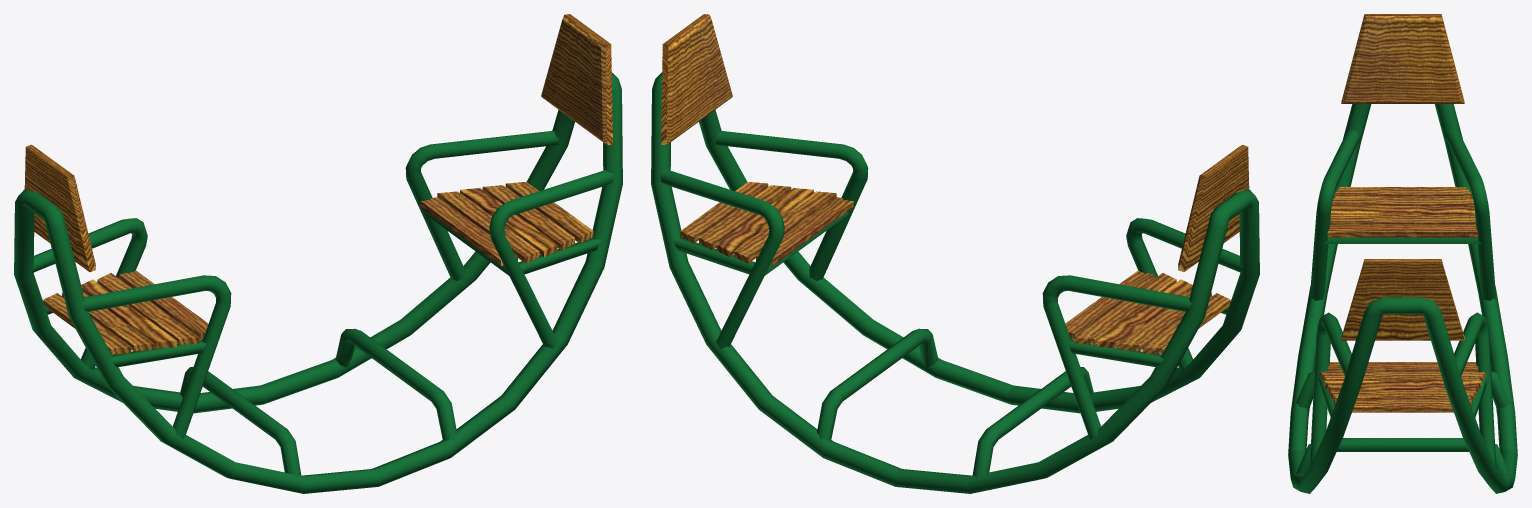
Rendered from seesaw.glb.
The picture shows the model from 3 angles, left to right: view 1: azimuth 30°, elevation 25°; view 2: azimuth 150°, elevation 25°; view 3: azimuth 270°, elevation 25°; orthographic projection. The views are drawn at different scales.
Parts seen in each view (by area): view 1: seesaw-type1; view 2: seesaw-type1; view 3: seesaw-type1.
Boxes of the visible parts, box(x1,y1,x2,y2) form: seesaw-type1: box(14, 14, 622, 493); seesaw-type1: box(651, 14, 1259, 493); seesaw-type1: box(1288, 14, 1517, 493).
Bounding box in the file's own units: 2 × 1.17 × 0.7452.
1 material, 1 textured.
